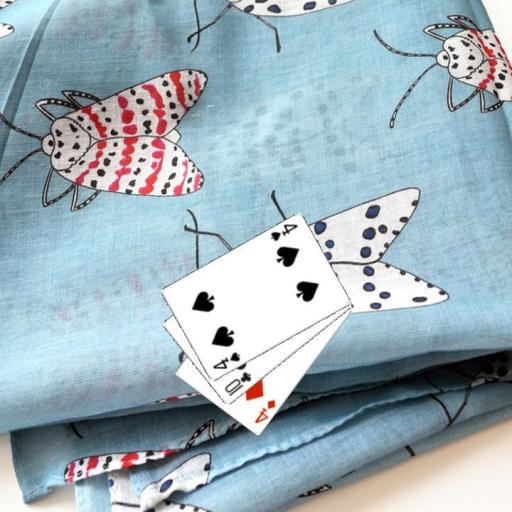10C: (221, 369, 253, 398)
4D: (251, 397, 277, 425)
4S: (209, 349, 241, 371), (268, 221, 300, 243)
